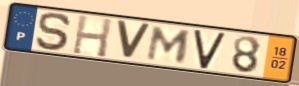8: (230, 35, 262, 75)
H: (70, 13, 115, 59)
M: (144, 25, 194, 65)
S: (34, 11, 74, 52)
V: (114, 18, 153, 62), (192, 29, 228, 71)
